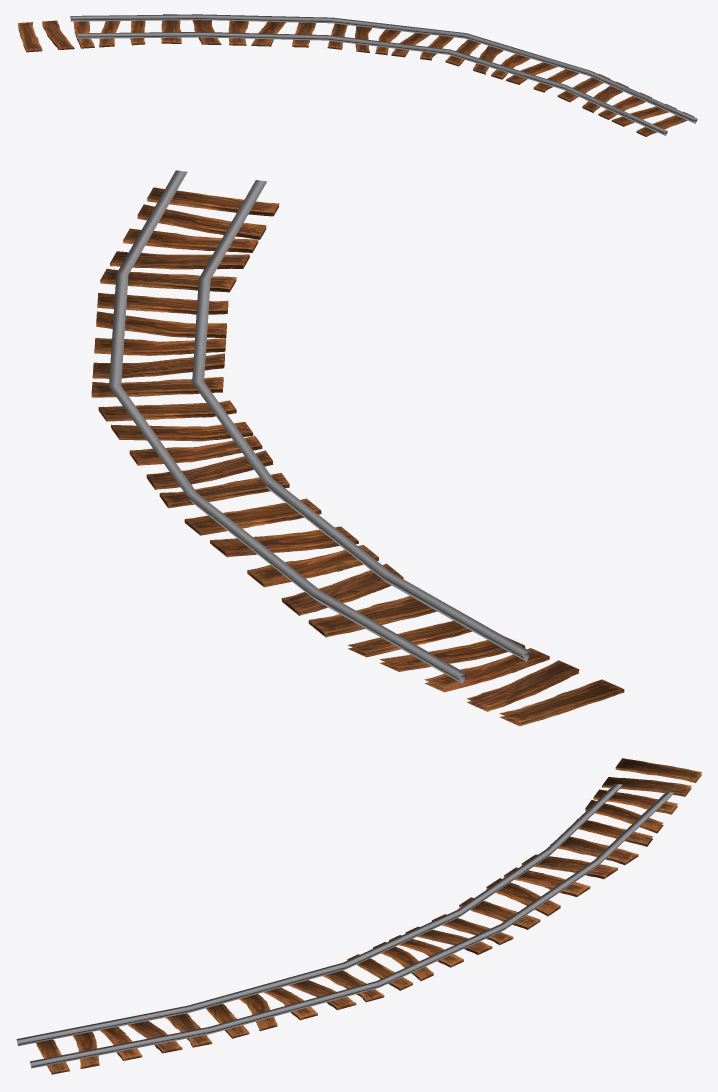
Rendered from SWORDLIGHT20_TRACK1.fbx.
The picture shows the model from 3 angles, top to bottom: view 1: azimuth 30°, elevation 25°; view 2: azimuth 150°, elevation 25°; view 3: azimuth 270°, elevation 25°; orthographic projection. The views are drawn at different scales.
Parts seen in each view (by area): view 1: SWORDLIGHT20_TRACK1; view 2: SWORDLIGHT20_TRACK1; view 3: SWORDLIGHT20_TRACK1.
Part boxes in pixels (x1,y1,x2,y2): SWORDLIGHT20_TRACK1: (17, 14, 697, 136); SWORDLIGHT20_TRACK1: (91, 170, 624, 726); SWORDLIGHT20_TRACK1: (16, 758, 702, 1074).
Size of the model in its own units: 130723 by 6846 by 129650.
Materials: 2 (2 with a texture image).
